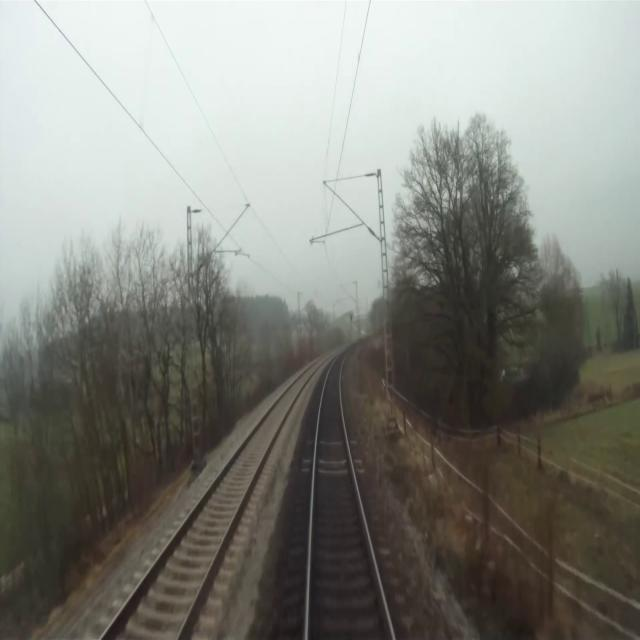rail-track: (103, 363, 318, 639), (309, 355, 390, 639)
